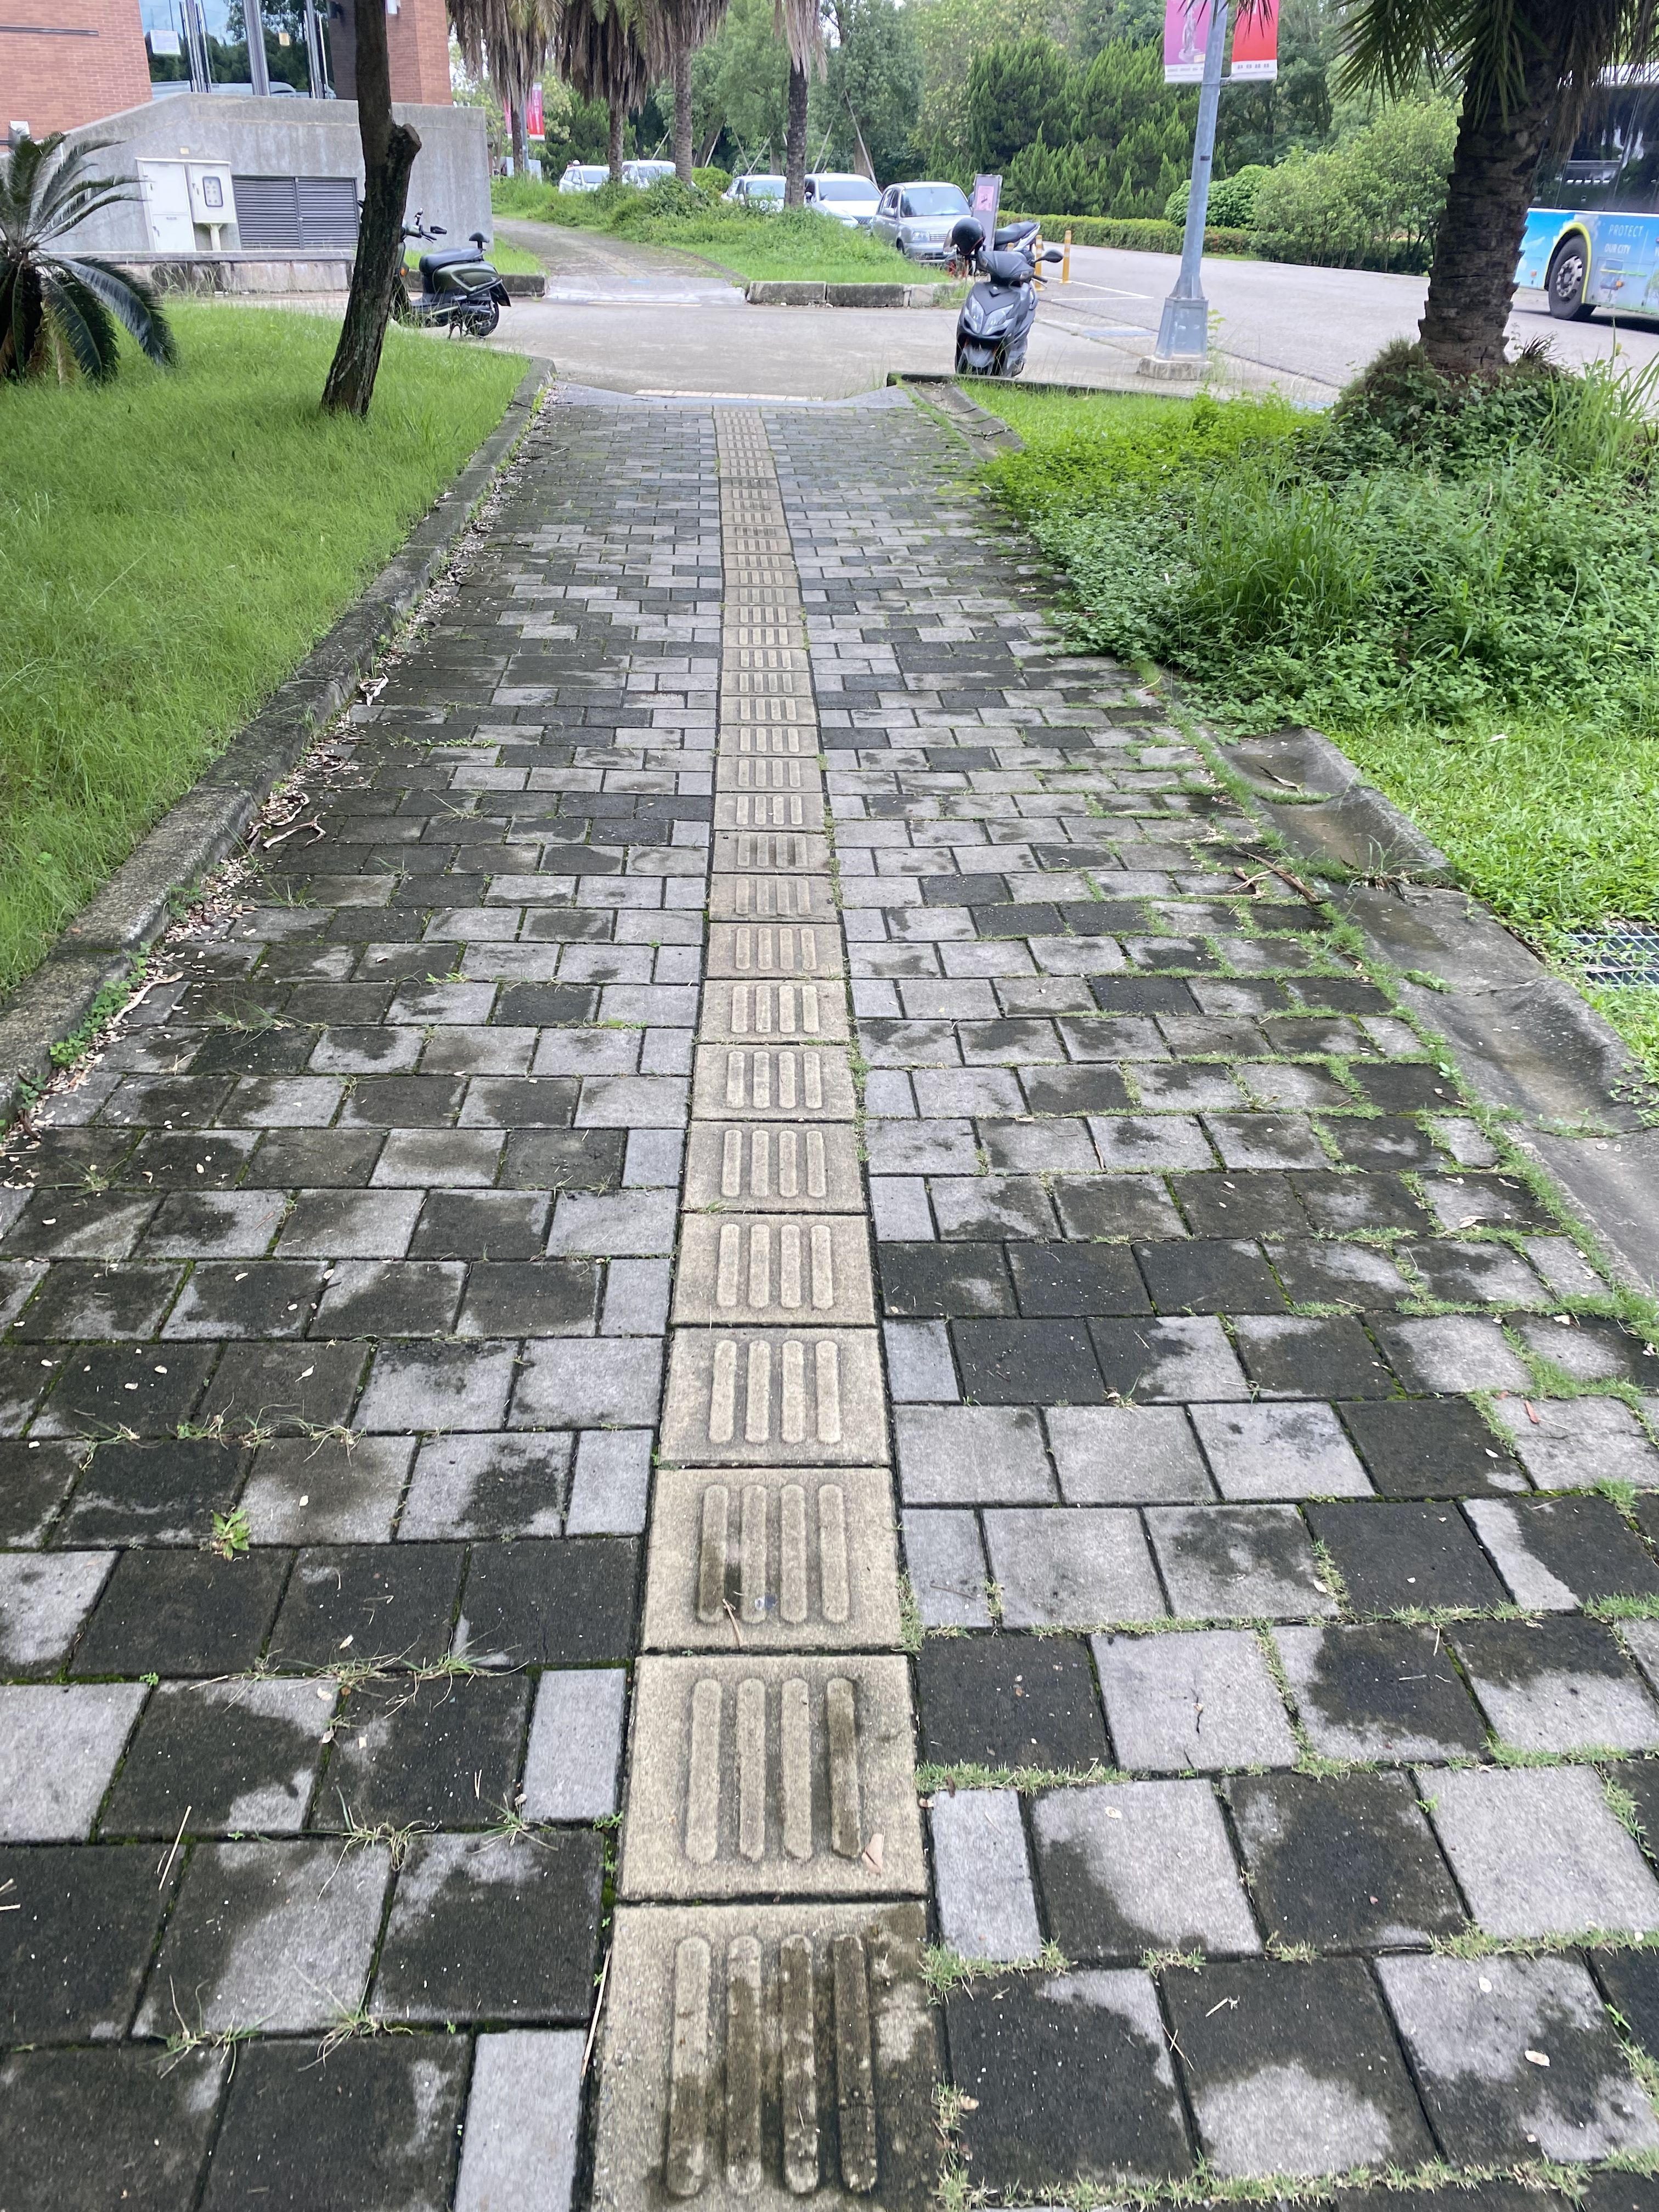sidewalk: (3, 369, 1659, 2212)
